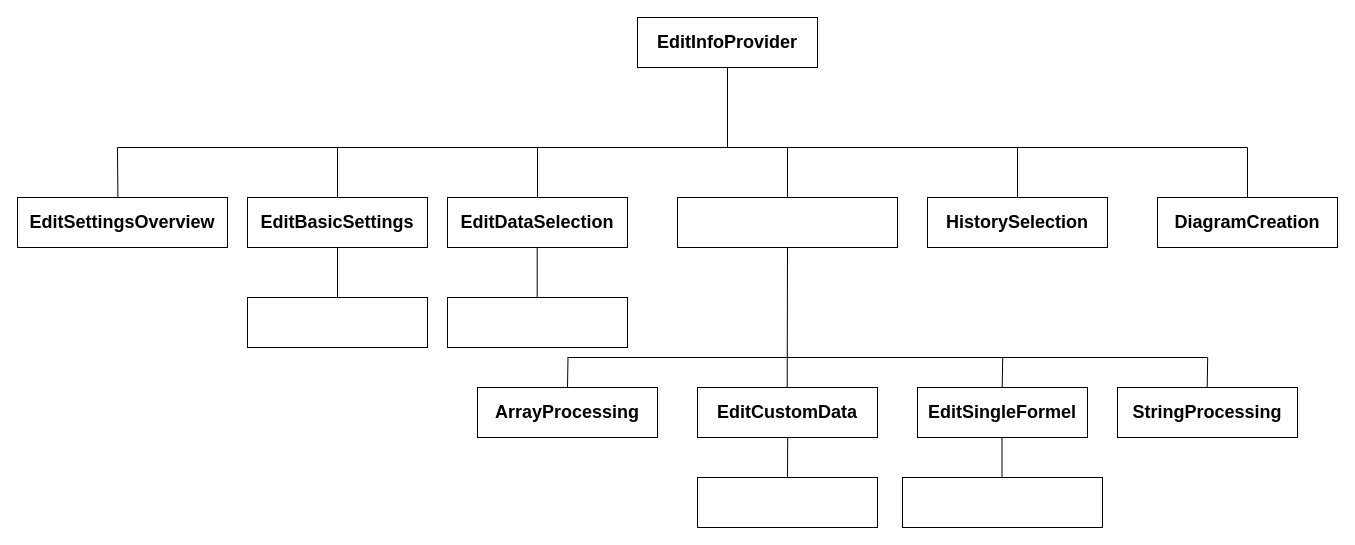
This 1355x545 diagram has some shape labels left out. The shapes that lost their labels are listed below. From the top down, each one's centre as x and y in pixels, then its label:
At point 787,222: "EditDataCustomization".
At point 337,322: "BasicSettings".
At point 537,322: "DataSelection".
At point 787,502: "FormelList".
At point 1002,502: "EditSingleFormelGUI".
